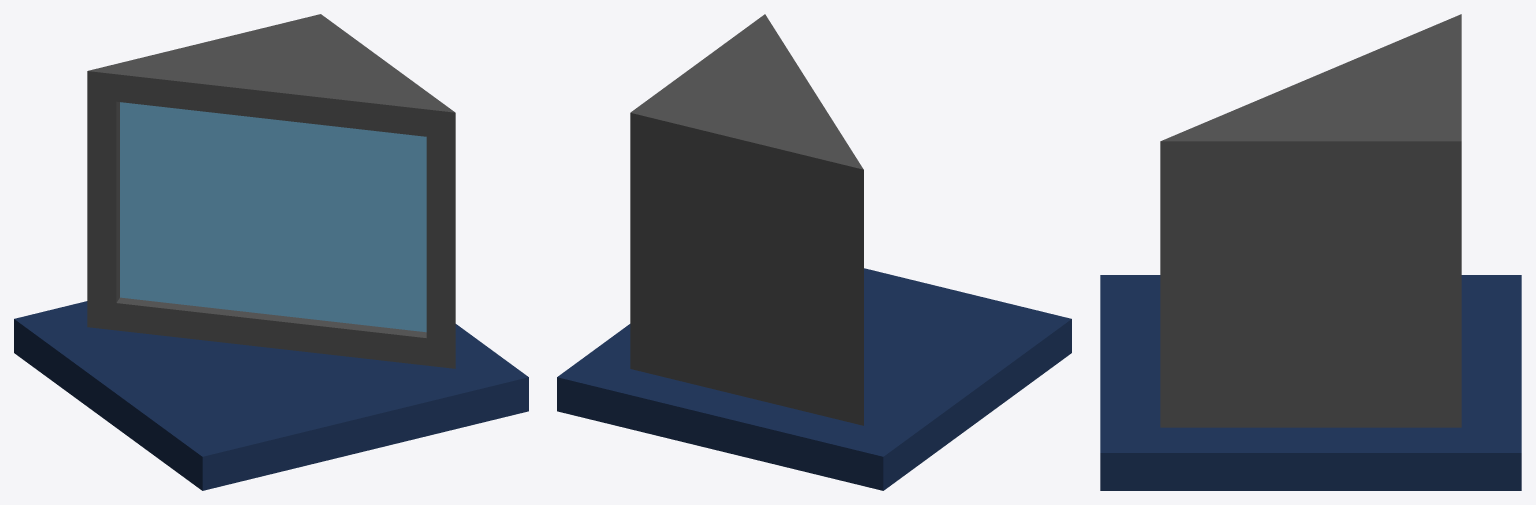
File: MirrorAlone.fbx
3 renders of one model, left to right at view 1: azimuth 30°, elevation 25°; view 2: azimuth 150°, elevation 25°; view 3: azimuth 270°, elevation 25°, orthographic. The views are drawn at different scales.
Parts seen in each view (by area): view 1: Mirror; view 2: Mirror; view 3: Mirror.
Part boxes in pixels (x1,y1,x2,y2): Mirror: (14,14,528,490); Mirror: (557,14,1071,490); Mirror: (1100,14,1521,490).
Size of the model in its own units: 200 by 170 by 200.
